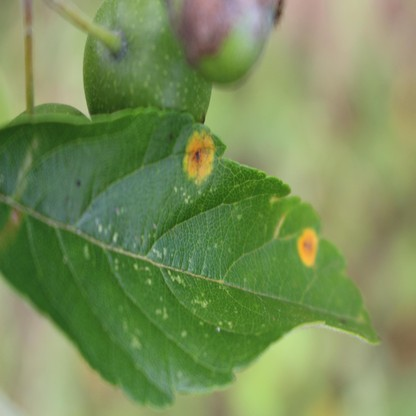rust: (184, 129, 212, 181), (296, 229, 317, 267)
